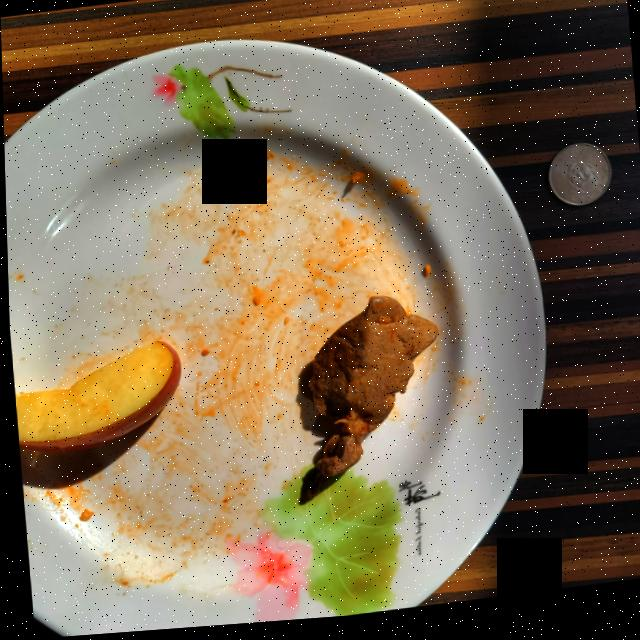apple -sliced-: (13, 343, 178, 452)
coin: (547, 151, 610, 214)
pig liver: (300, 301, 436, 503)
